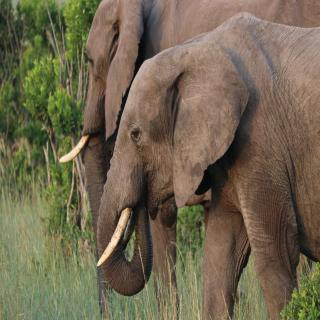Elephant: (90, 9, 320, 320)
